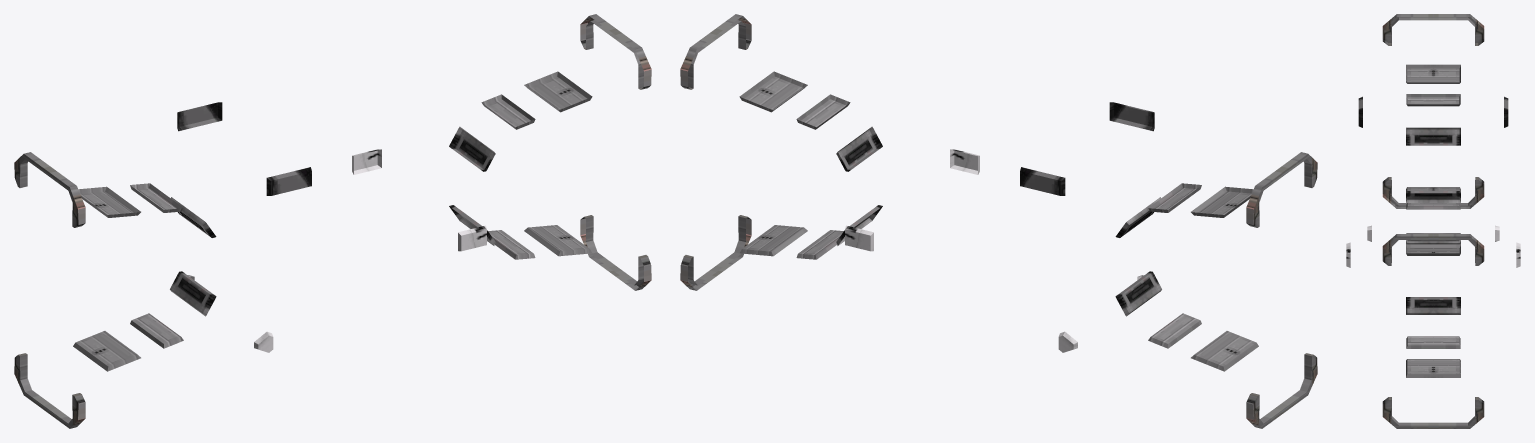
Rendered from Goblins-UVFlip.obj.
3 views of the same model, side by side, from view 1: azimuth 30°, elevation 25°; view 2: azimuth 150°, elevation 25°; view 3: azimuth 270°, elevation 25° (orthographic). The views are drawn at different scales.
Parts seen in each view (by area): view 1: hw2Shader; view 2: hw2Shader; view 3: hw2Shader.
Part boxes in pixels (x1=…): hw2Shader: x1=14, y1=14, x2=651, y2=428; hw2Shader: x1=680, y1=14, x2=1317, y2=428; hw2Shader: x1=1346, y1=14, x2=1520, y2=428.
Bounding box in the file's own units: 82.57 × 33.24 × 27.25.
